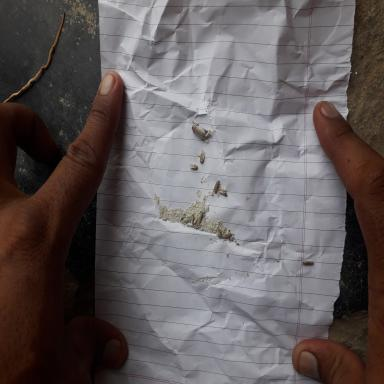pbw: (194, 211, 204, 226), (213, 180, 220, 194), (197, 149, 204, 163), (215, 226, 222, 238), (188, 162, 198, 170), (222, 232, 232, 239), (218, 189, 227, 196), (302, 261, 314, 265), (191, 214, 194, 226), (185, 217, 191, 223), (187, 223, 195, 227), (194, 225, 201, 229)
